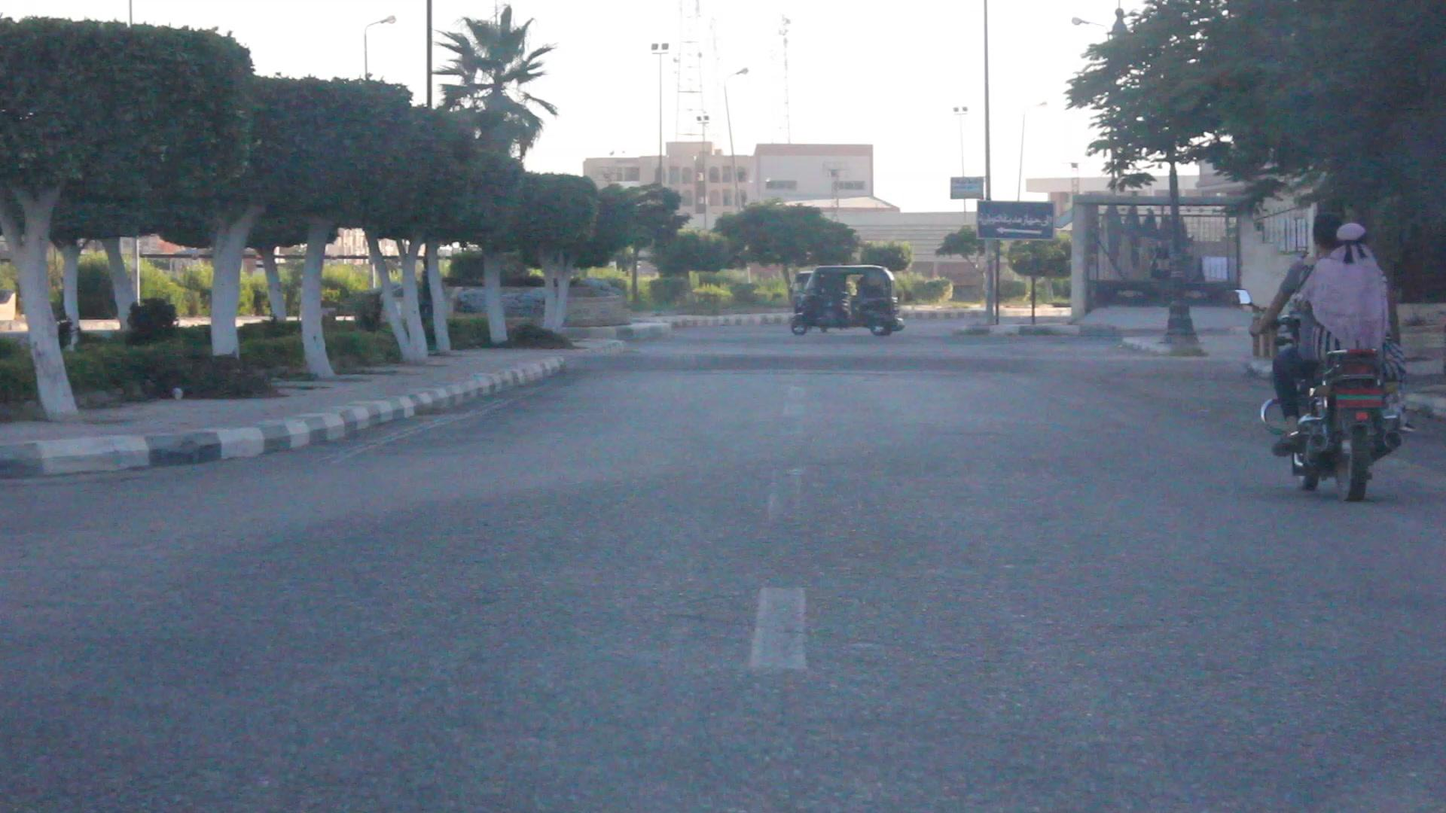Bump: (559, 352, 1259, 378)
